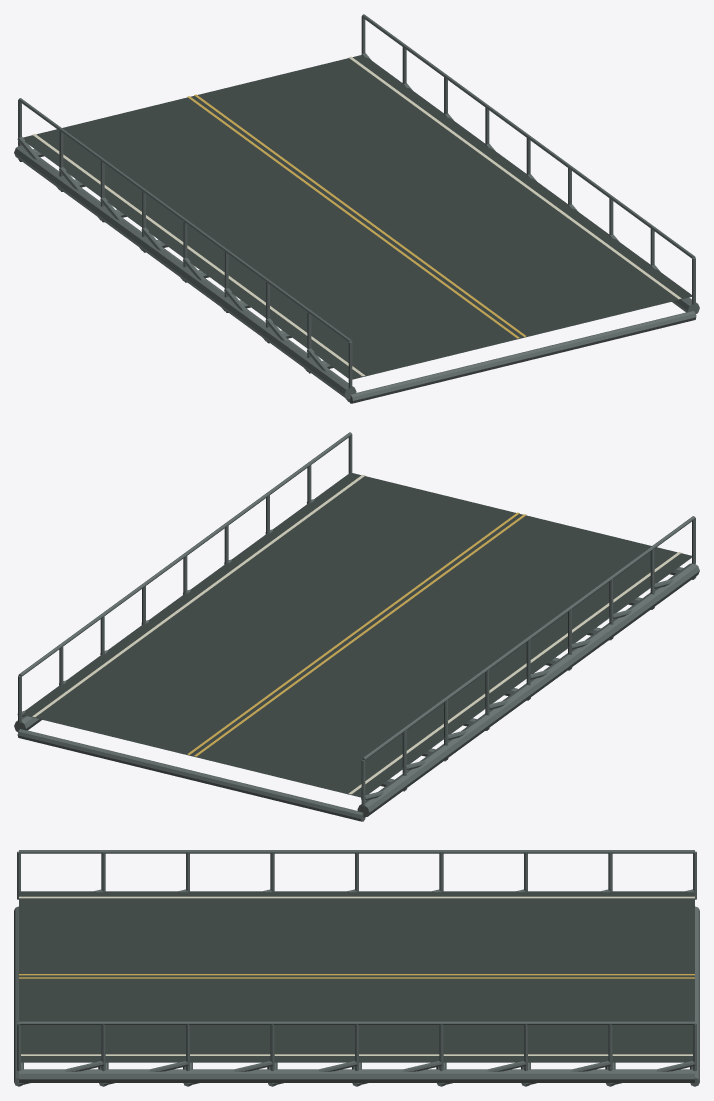
File: XBLD088.glb
3 renders of one model, top to bottom at view 1: azimuth 30°, elevation 25°; view 2: azimuth 150°, elevation 25°; view 3: azimuth 270°, elevation 25°, orthographic. The views are drawn at different scales.
Visible parts, largest first — view 1: 도개교 닫힘; view 2: 도개교 닫힘; view 3: 도개교 닫힘.
Part boxes in pixels (x1=…): 도개교 닫힘: x1=14, y1=14, x2=699, y2=403; 도개교 닫힘: x1=14, y1=432, x2=699, y2=821; 도개교 닫힘: x1=14, y1=850, x2=699, y2=1086.
Bounding box in the file's own units: 9.94 × 1.7 × 16.24.
